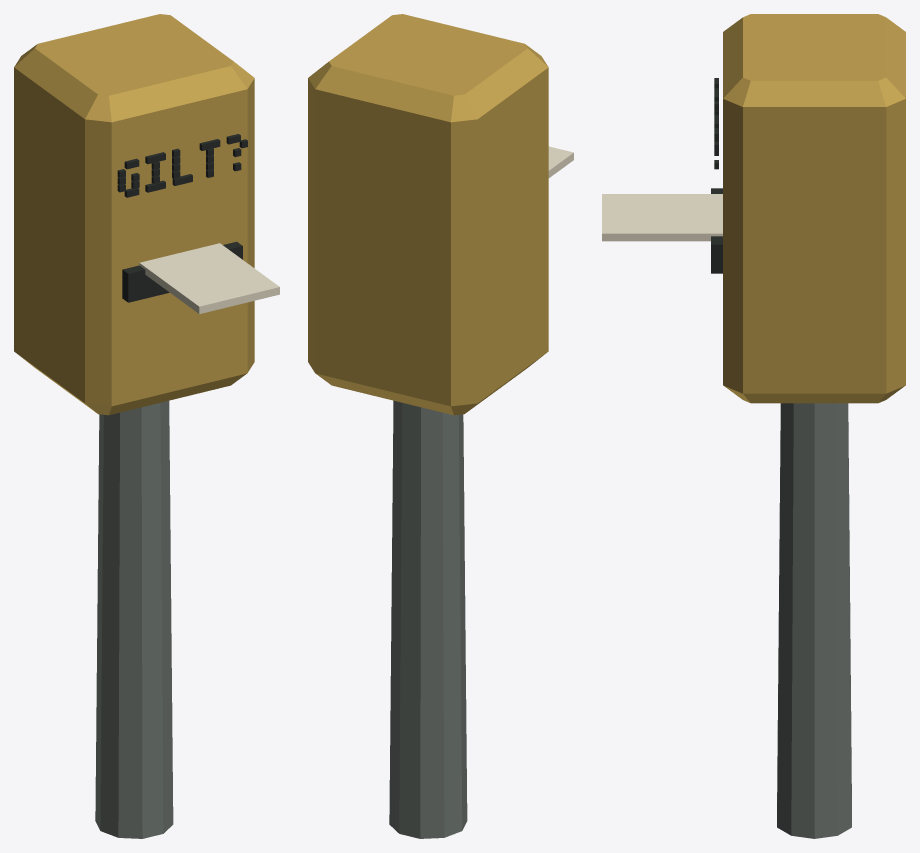
Rendered from ticket-validator.glb.
3 renders of one model, left to right at view 1: azimuth 30°, elevation 25°; view 2: azimuth 150°, elevation 25°; view 3: azimuth 270°, elevation 25°, orthographic.
Visible parts, largest first — view 1: ticket-validator; view 2: ticket-validator; view 3: ticket-validator.
Boxes of the visible parts, bbox=[...] form: ticket-validator: bbox=[14, 14, 279, 838]; ticket-validator: bbox=[308, 14, 573, 838]; ticket-validator: bbox=[602, 14, 905, 838].
Bounding box in the file's own units: 0.4 × 1.73 × 0.615.
